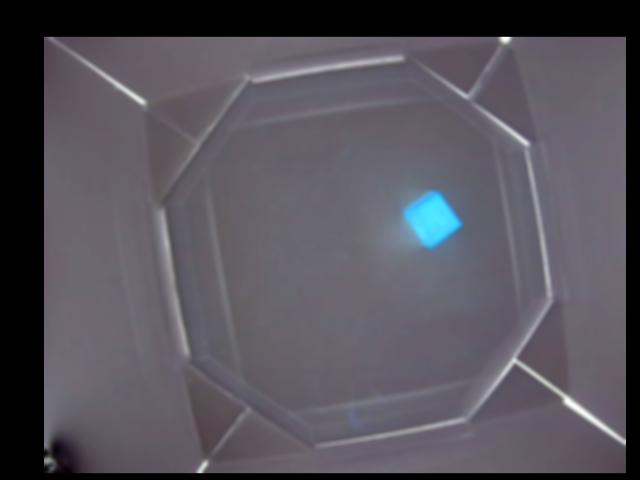Carrot: (405, 188, 462, 247)
